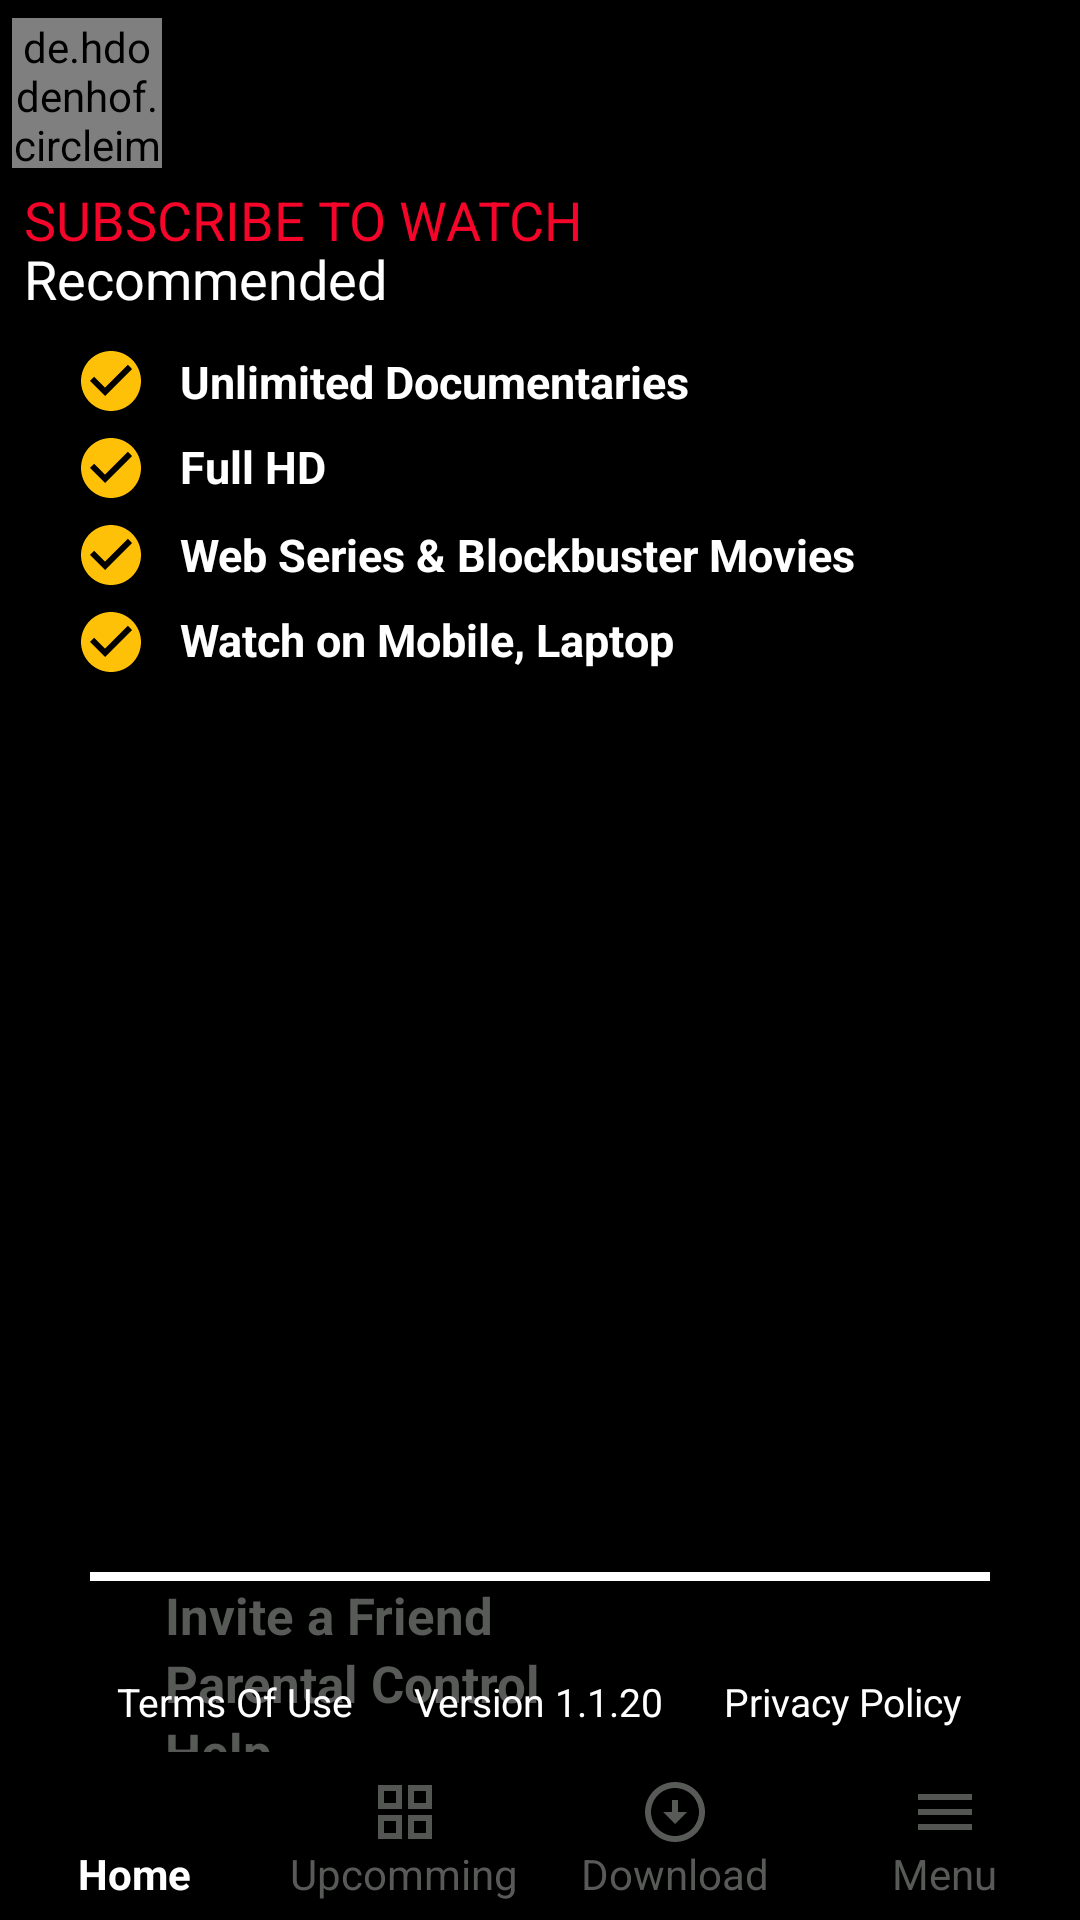

Screen size 1080 x 1920. Icon name, then its center in pixels as (x,y):
check circle: (111,381), (111,468), (111,555), (111,642)
